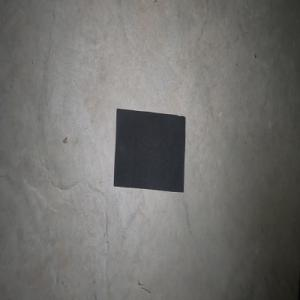PaintChip: (113, 108, 185, 192)
